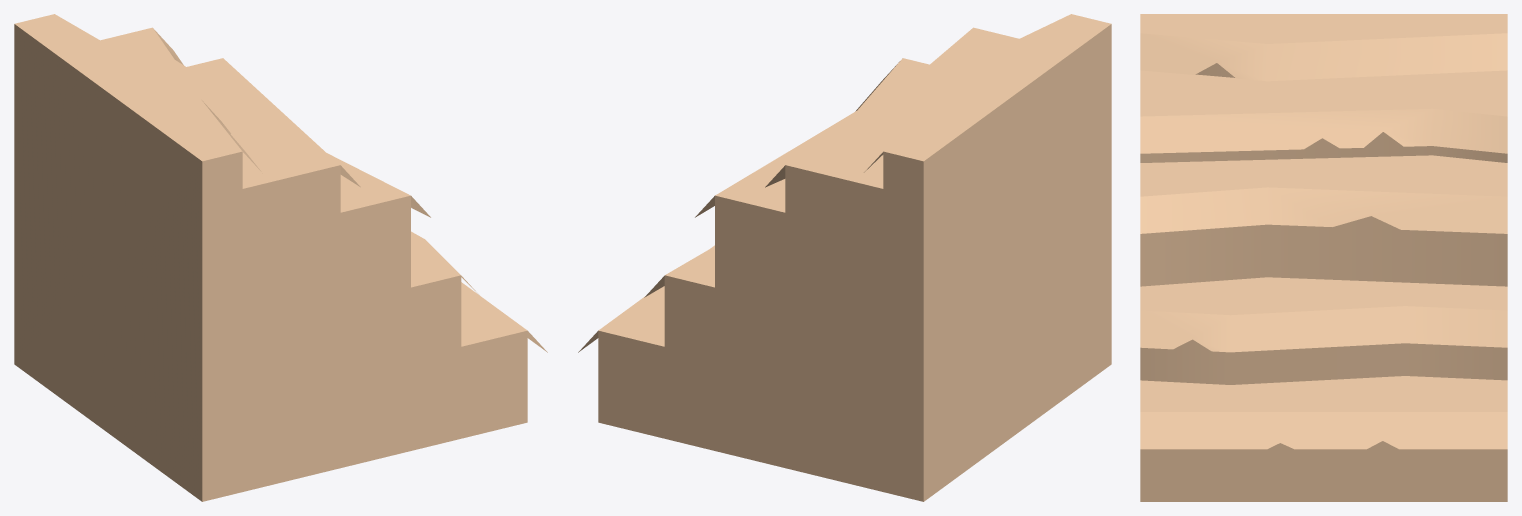
File: cliffBrown_steps.fbx
3 views of the same model, side by side, from view 1: azimuth 30°, elevation 25°; view 2: azimuth 150°, elevation 25°; view 3: azimuth 270°, elevation 25° (orthographic). The views are drawn at different scales.
Visible parts, largest first — view 1: cliffBrown_steps; view 2: cliffBrown_steps; view 3: cliffBrown_steps.
Part boxes in pixels (box(x1,y1,x2,y2)): cliffBrown_steps: box(14, 14, 547, 501); cliffBrown_steps: box(578, 14, 1111, 501); cliffBrown_steps: box(1140, 14, 1507, 501).
Size of the model in its own units: 319 by 300 by 300.
